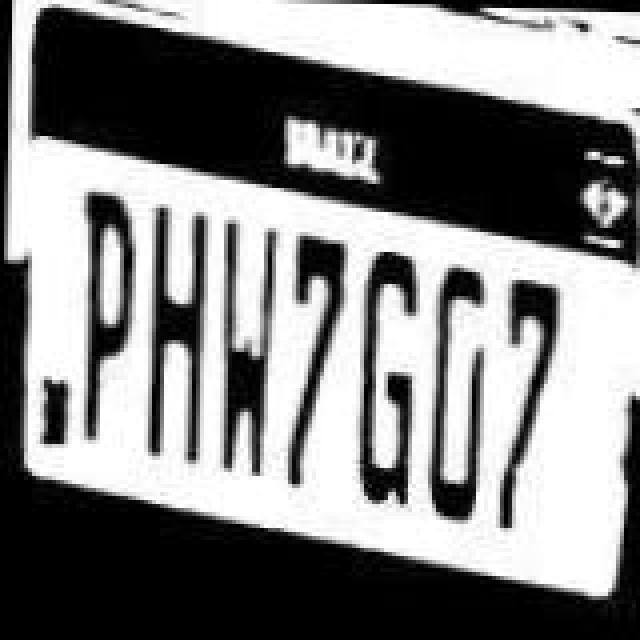7: (488, 268, 568, 540), (276, 220, 348, 492)
D: (426, 258, 486, 518)
G: (344, 236, 424, 520)
H: (140, 194, 208, 466)
P: (60, 172, 136, 452)
W: (202, 200, 282, 484)
